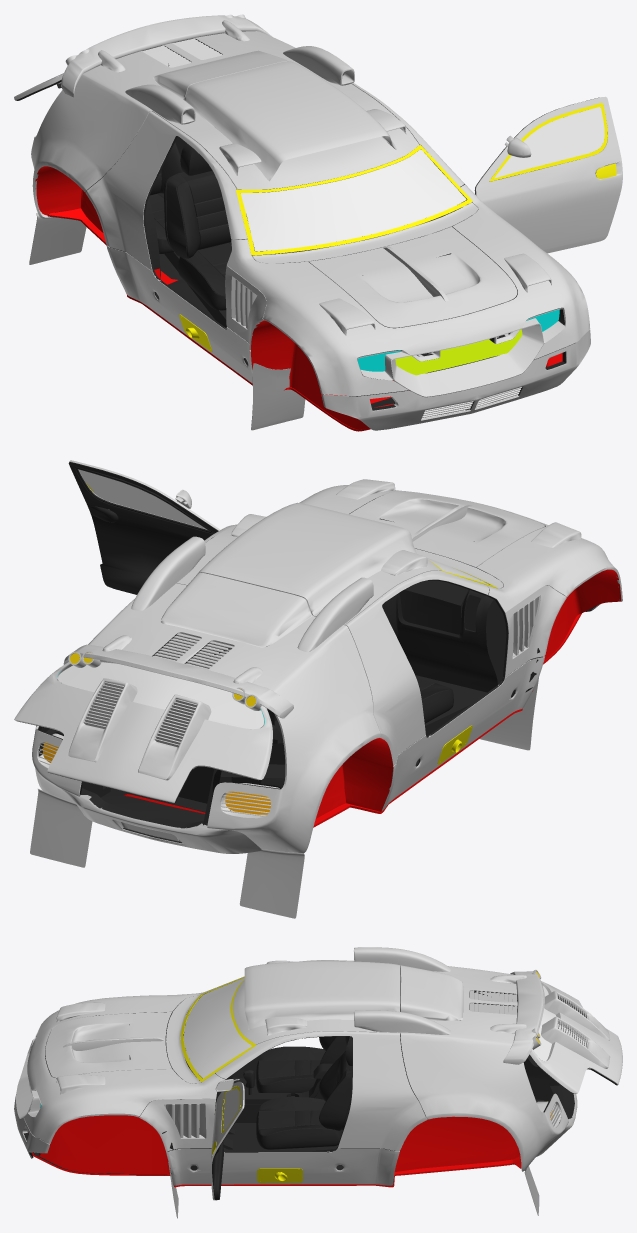
The model's file is SUV_3_Parts.fbx.
3 views of the same model, one above another, from view 1: azimuth 30°, elevation 25°; view 2: azimuth 150°, elevation 25°; view 3: azimuth 270°, elevation 25° (orthographic). The views are drawn at different scales.
Visible parts, largest first — view 1: SUV_3, Front_Door; view 2: SUV_3, Back_Door, Front_Door; view 3: SUV_3, Back_Door, Front_Door.
Boxes of the visible parts, x1,y1,x2,y2 form: SUV_3: (29,15,590,431); Front_Door: (474,96,622,253); SUV_3: (30,479,622,918); Back_Door: (14,651,273,803); Front_Door: (68,460,220,594); SUV_3: (14,947,577,1218); Back_Door: (527,969,622,1093); Front_Door: (210,1079,245,1200).
Bounding box in the file's own units: 537 × 292 × 853.
